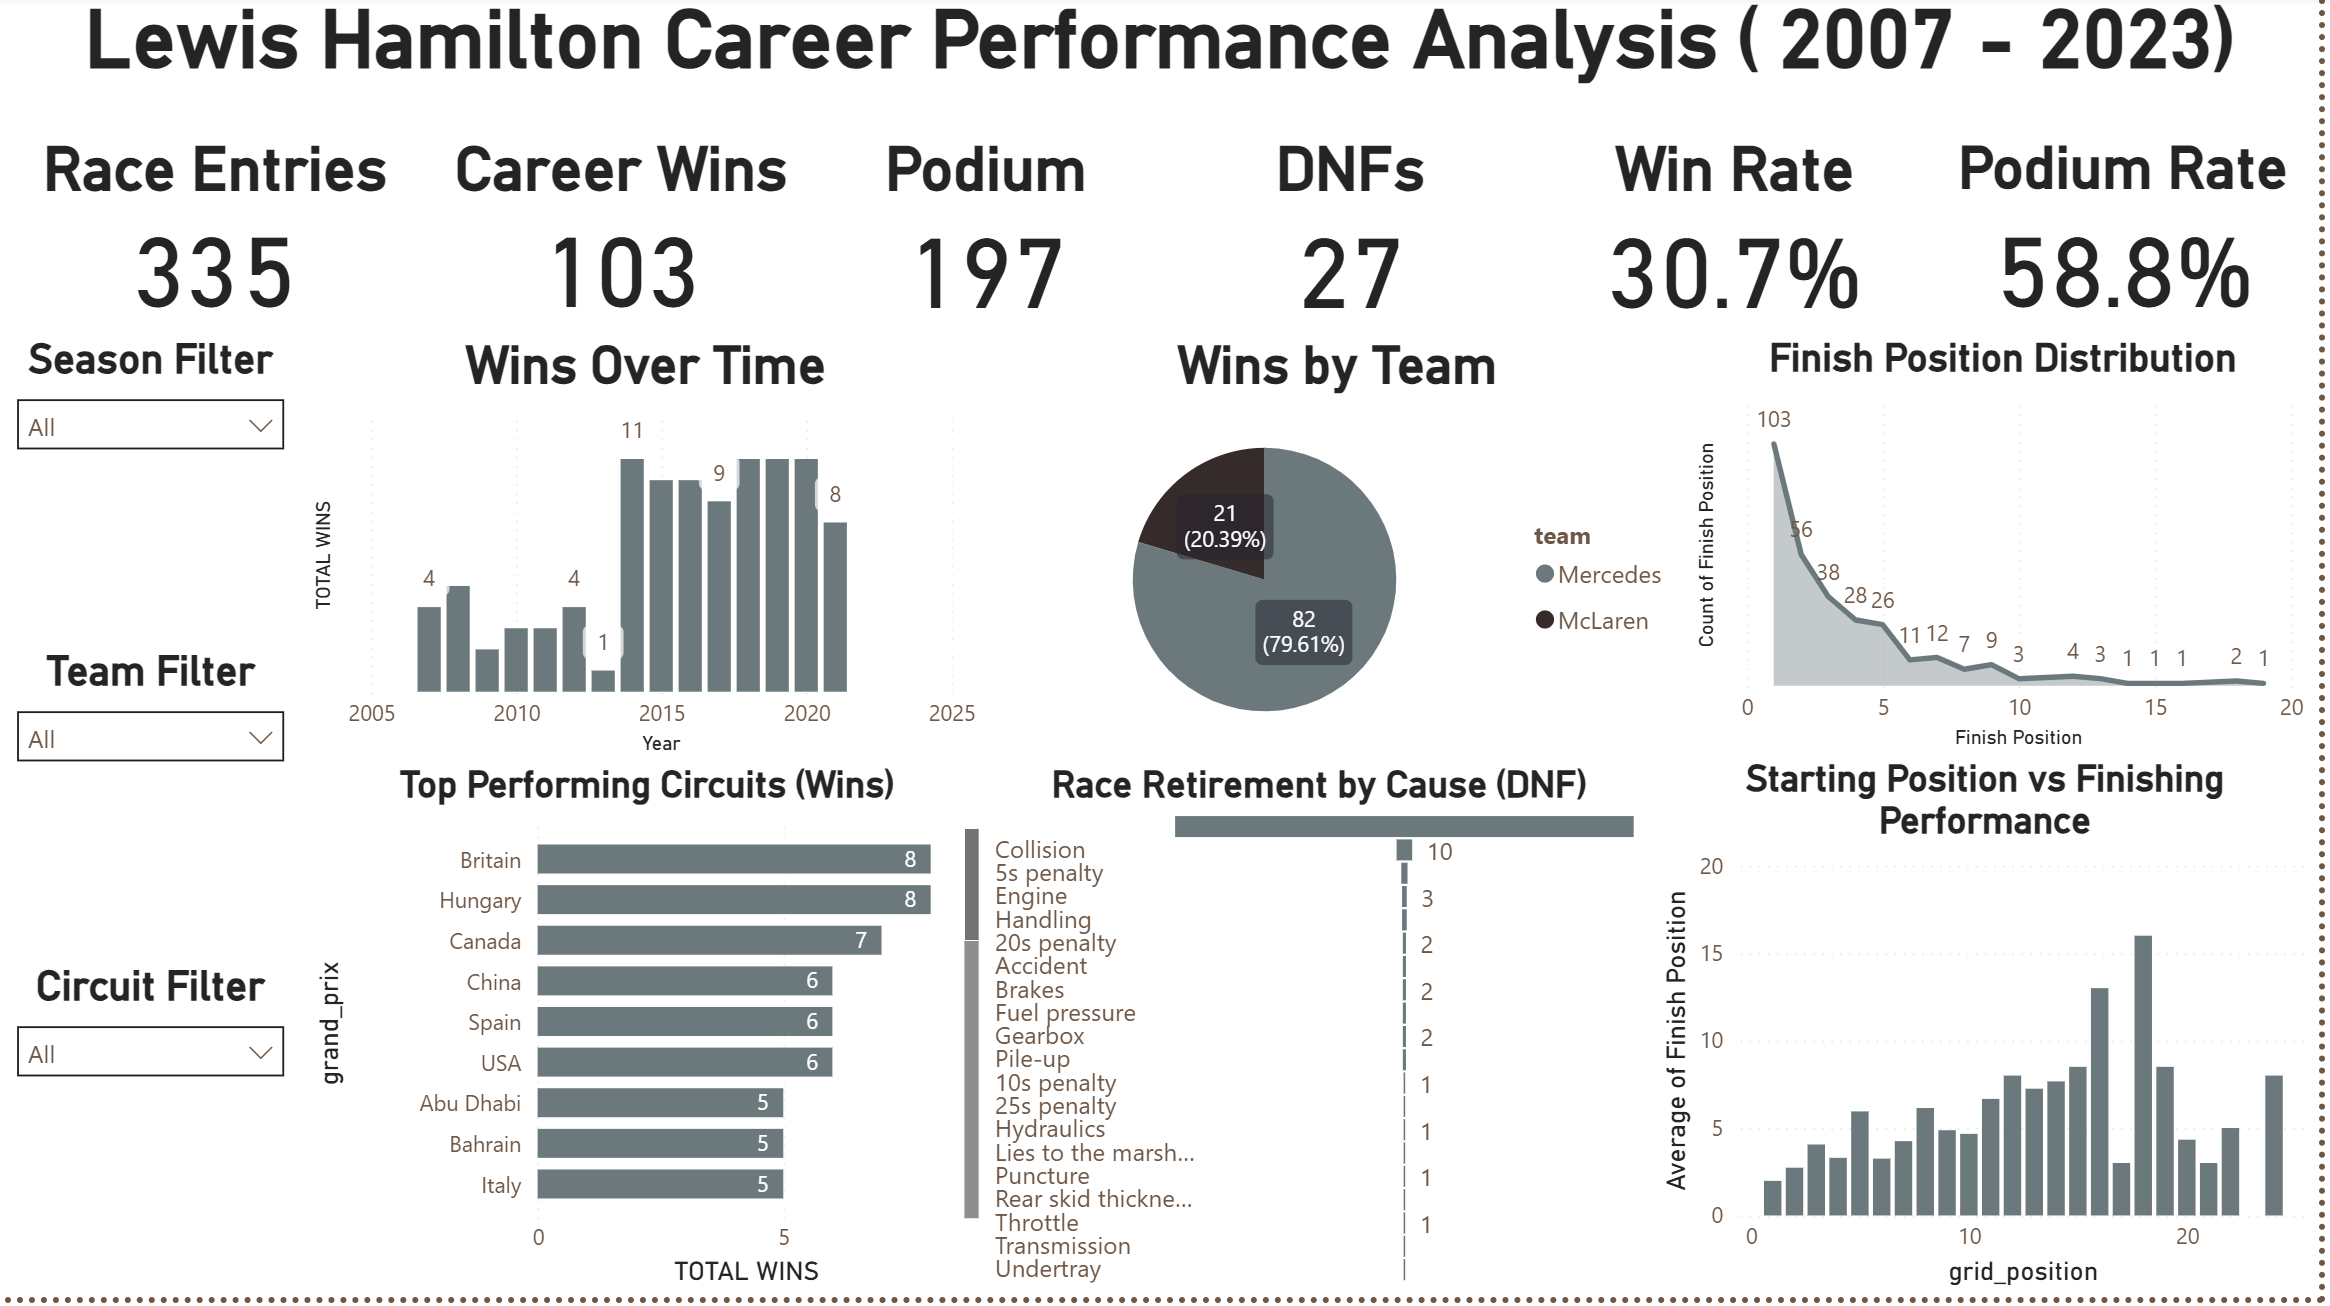

Layout of this report page (visuals, bound fields, positions):
{"tool":"powerbi","page":{"name":"Page 1","canvas":[1280,720],"ordinal":0},"visuals":[{"type":"card","title":"Race Entries","fields":{"Values":["LEWIS HAMILTON.TOTAL RACES"]},"box":[0,77.6,238.6,102.2],"z":0},{"type":"card","title":"DNFs","fields":{"Values":["LEWIS HAMILTON.DNF COUNT"]},"box":[640.6,77.8,210.2,102.6],"z":1000},{"type":"card","title":"Podium","fields":{"Values":["LEWIS HAMILTON.PODIUMS"]},"box":[448.6,77.8,192,102.6],"z":2000},{"type":"card","title":"Career Wins","fields":{"Values":["LEWIS HAMILTON.TOTAL WINS"]},"box":[238.6,77.6,210.2,102.2],"z":3000},{"type":"card","title":"Win Rate","fields":{"Values":["LEWIS HAMILTON.WIN RATE"]},"box":[850.8,77.8,213.5,102.6],"z":4000},{"type":"card","title":"Podium Rate","fields":{"Values":["LEWIS HAMILTON.PODIUM RATE"]},"box":[1064.3,77.8,215.2,102.6],"z":5000},{"type":"lineClusteredColumnComboChart","title":"Wins Over Time","fields":{"Category":["LEWIS HAMILTON.Year"],"Y":["LEWIS HAMILTON.TOTAL WINS"]},"box":[168.8,188.7,375.7,236.7],"z":6000},{"type":"pieChart","title":"Wins by Team","fields":{"Category":["LEWIS HAMILTON.team"],"Y":["LEWIS HAMILTON.TOTAL WINS"]},"box":[544.6,188.7,387.3,238.3],"z":7000},{"type":"lineChart","title":"Finish Position Distribution","fields":{"Category":["LEWIS HAMILTON.Finish Position"],"Y":["CountNonNull(LEWIS HAMILTON.Finish Position)"]},"box":[931.9,188.7,347.6,233.4],"z":8000},{"type":"funnel","title":"Race Retirement by Cause (DNF)","fields":{"Category":["LEWIS HAMILTON.event"],"Y":["CountNonNull(LEWIS HAMILTON.event)"]},"box":[545.3,426,367.3,291.6],"z":9000},{"type":"columnChart","title":"Starting Position vs Finishing Performance","fields":{"Category":["LEWIS HAMILTON.grid_position"],"Y":["Avg(LEWIS HAMILTON.Finish Position)"]},"box":[912,422.1,367.4,296.3],"z":10000},{"type":"barChart","title":"Top Performing Circuits (Wins)","fields":{"Category":["LEWIS HAMILTON.grand_prix"],"Y":["LEWIS HAMILTON.TOTAL WINS"]},"box":[168.5,426,376.8,293.5],"z":11000},{"type":"slicer","title":"Season Filter","fields":{"Values":["LEWIS HAMILTON.Year"]},"box":[0,188.7,167.2,170.5],"z":12000},{"type":"slicer","title":"Team Filter","fields":{"Values":["LEWIS HAMILTON.team"]},"box":[0,360.8,167.2,173.8],"z":13000},{"type":"slicer","title":"Circuit Filter","fields":{"Values":["LEWIS HAMILTON.grand_prix"]},"box":[0,534.6,167.2,183.7],"z":14000},{"type":"shape","title":"Lewis Hamilton Career Performance Analysis ( 2007 - 2023)","box":[0,0,1280,64.4],"z":15000}]}

Visuals, with their boxes in screenshot pixels (x1, y1, x2, y2), scaled from the page's 1280x720 canvas onto the 2330x1306 screenshot:
"Race Entries" card: [left=0, top=141, right=434, bottom=326]
"DNFs" card: [left=1166, top=141, right=1549, bottom=327]
"Podium" card: [left=817, top=141, right=1166, bottom=327]
"Career Wins" card: [left=434, top=141, right=817, bottom=326]
"Win Rate" card: [left=1549, top=141, right=1937, bottom=327]
"Podium Rate" card: [left=1937, top=141, right=2329, bottom=327]
"Wins Over Time" lineClusteredColumnComboChart: [left=307, top=342, right=991, bottom=772]
"Wins by Team" pieChart: [left=991, top=342, right=1696, bottom=775]
"Finish Position Distribution" lineChart: [left=1696, top=342, right=2329, bottom=766]
"Race Retirement by Cause (DNF)" funnel: [left=993, top=773, right=1661, bottom=1302]
"Starting Position vs Finishing Performance" columnChart: [left=1660, top=766, right=2329, bottom=1303]
"Top Performing Circuits (Wins)" barChart: [left=307, top=773, right=993, bottom=1305]
"Season Filter" slicer: [left=0, top=342, right=304, bottom=652]
"Team Filter" slicer: [left=0, top=654, right=304, bottom=970]
"Circuit Filter" slicer: [left=0, top=970, right=304, bottom=1303]
"Lewis Hamilton Career Performance Analysis ( 2007 - 2023)" shape: [left=0, top=0, right=2329, bottom=117]
